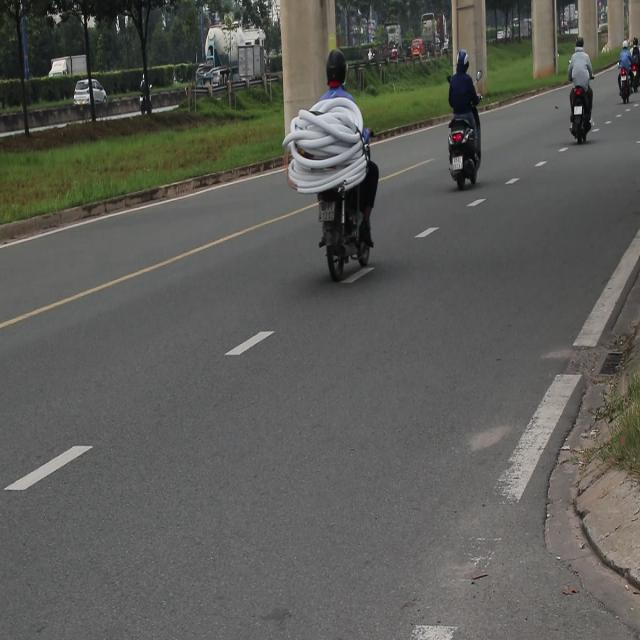car: (73, 79, 107, 104)
motorbike: (310, 177, 374, 275), (562, 86, 594, 180), (447, 115, 482, 191), (137, 68, 161, 118), (629, 61, 640, 95), (624, 68, 631, 114)
truck: (199, 22, 272, 98)
